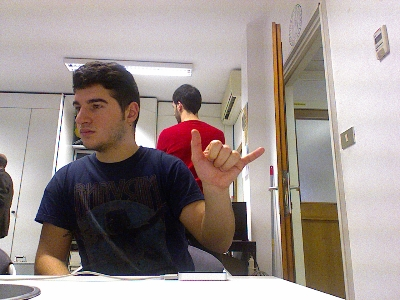六六六: (187, 127, 266, 190)
